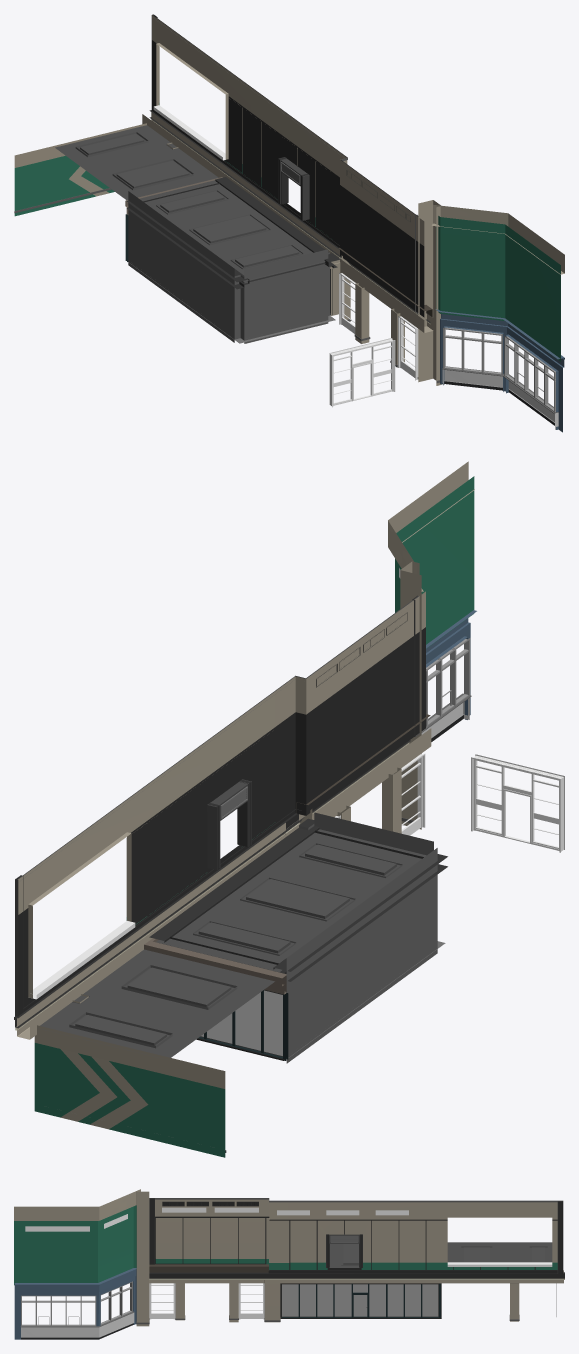
Rendered from SM_H_Building_Tide_MedicalRoom_15_ATLAS.fbx.
The picture shows the model from 3 angles, top to bottom: view 1: azimuth 30°, elevation 25°; view 2: azimuth 150°, elevation 25°; view 3: azimuth 270°, elevation 25°; orthographic projection. The views are drawn at different scales.
Visible parts, largest first — view 1: SM_H_Building_Tide_MedicalRoom_15_ATLAS; view 2: SM_H_Building_Tide_MedicalRoom_15_ATLAS; view 3: SM_H_Building_Tide_MedicalRoom_15_ATLAS.
Boxes of the visible parts, left/top/right/bottom form: SM_H_Building_Tide_MedicalRoom_15_ATLAS: left=14, top=14, right=564, bottom=432; SM_H_Building_Tide_MedicalRoom_15_ATLAS: left=14, top=461, right=564, bottom=1157; SM_H_Building_Tide_MedicalRoom_15_ATLAS: left=14, top=1189, right=564, bottom=1339.
Size of the model in its own units: 1537 by 5114 by 1383.
